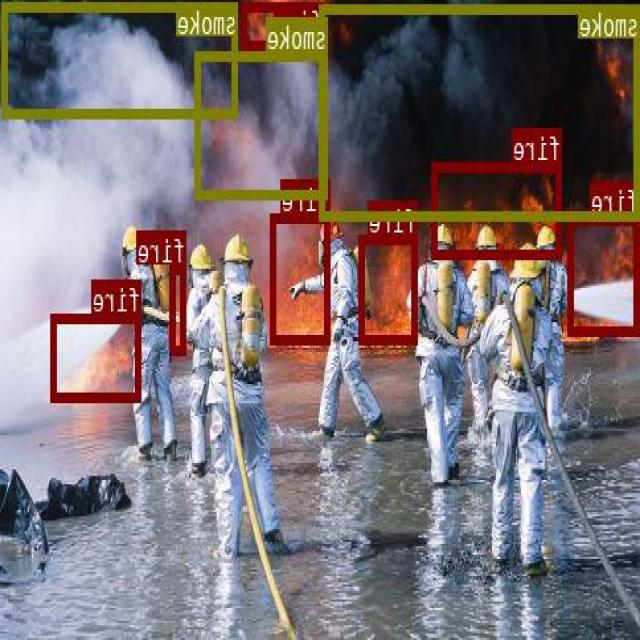fire: (433, 161, 562, 257), (570, 214, 640, 334), (52, 312, 142, 401), (272, 212, 331, 341), (360, 235, 418, 342), (242, 1, 324, 48), (171, 262, 187, 354)
smoke: (320, 4, 640, 218), (3, 1, 238, 116), (196, 49, 328, 198)
